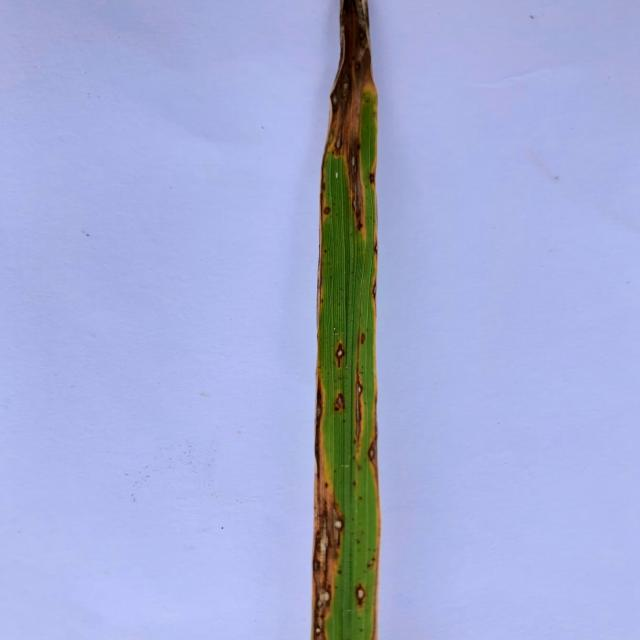leaf blast: (313, 500, 333, 640), (316, 378, 324, 484), (354, 366, 365, 434), (347, 140, 362, 183), (353, 192, 365, 232), (365, 608, 378, 640), (334, 340, 348, 366), (340, 74, 351, 104), (354, 584, 366, 609), (332, 392, 347, 412), (333, 514, 346, 534), (366, 443, 376, 462), (358, 332, 368, 348), (369, 278, 376, 300), (332, 92, 340, 108)
